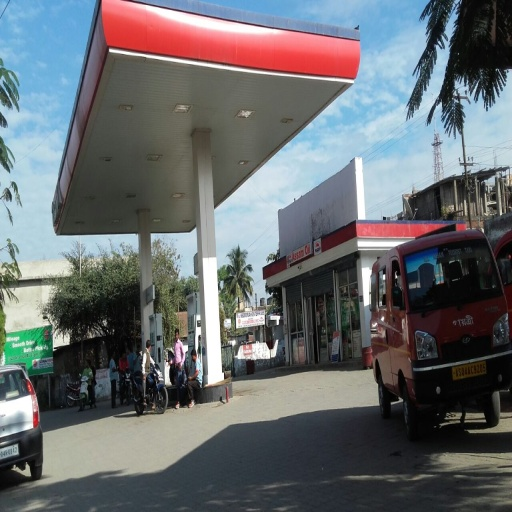roof: (53, 1, 360, 234)
